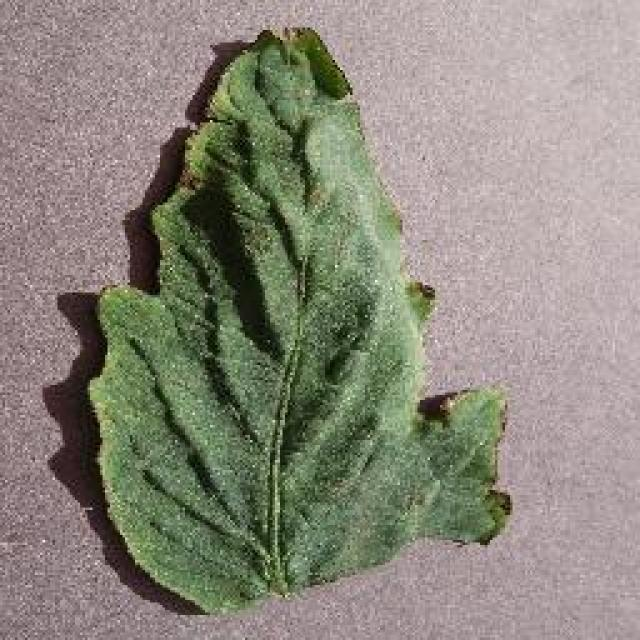Tomato Septoria spot leaf: (86, 24, 512, 614)
